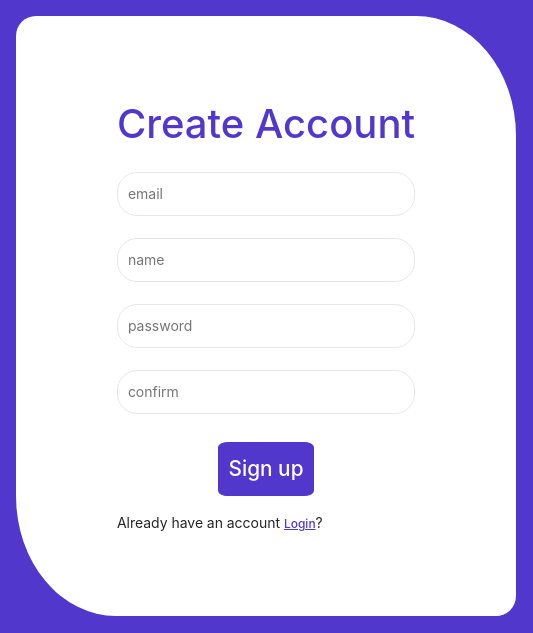
Test: to test signup page › check correct email is displayed show error message
Type "cmmaran" into the field with test id "email" at (266, 194), box [117,172,415,216]
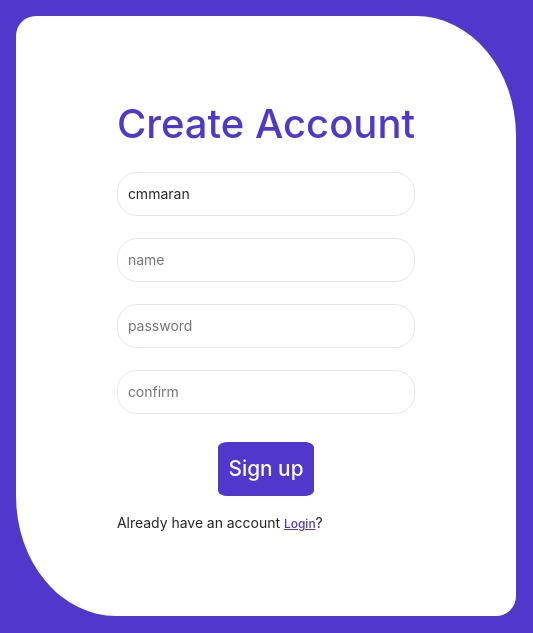
Replace the text in the field with test id "email" with "cmmaran102@.co" at (266, 194), box [117,172,415,216]
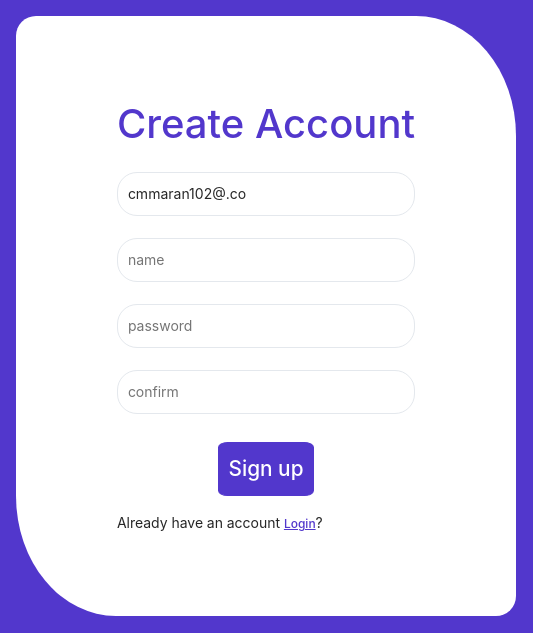
Replace the text in the field with test id "email" with "cmmaran102.com" at (266, 194), box [117,172,415,216]
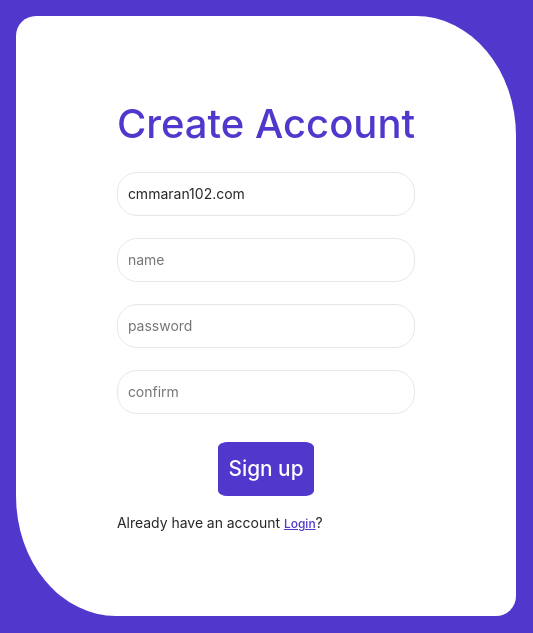
Click the button "Sign up" at (266, 469), box [218,442,314,496]
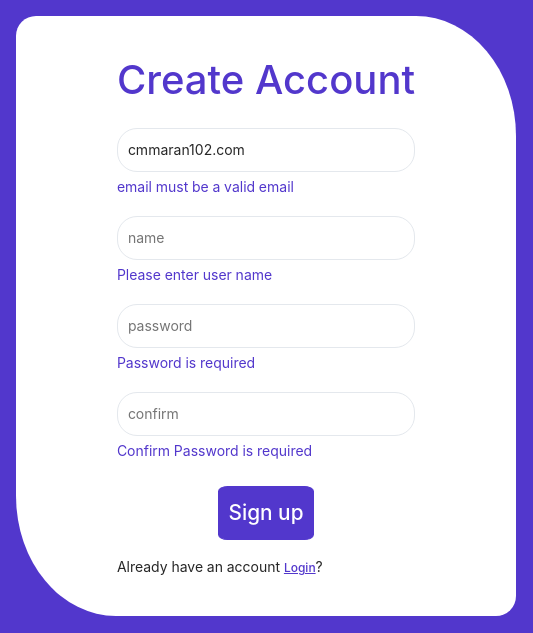
Check: the text with test id "error-test1" reads "email must be a valid email", box [117,178,294,195]
